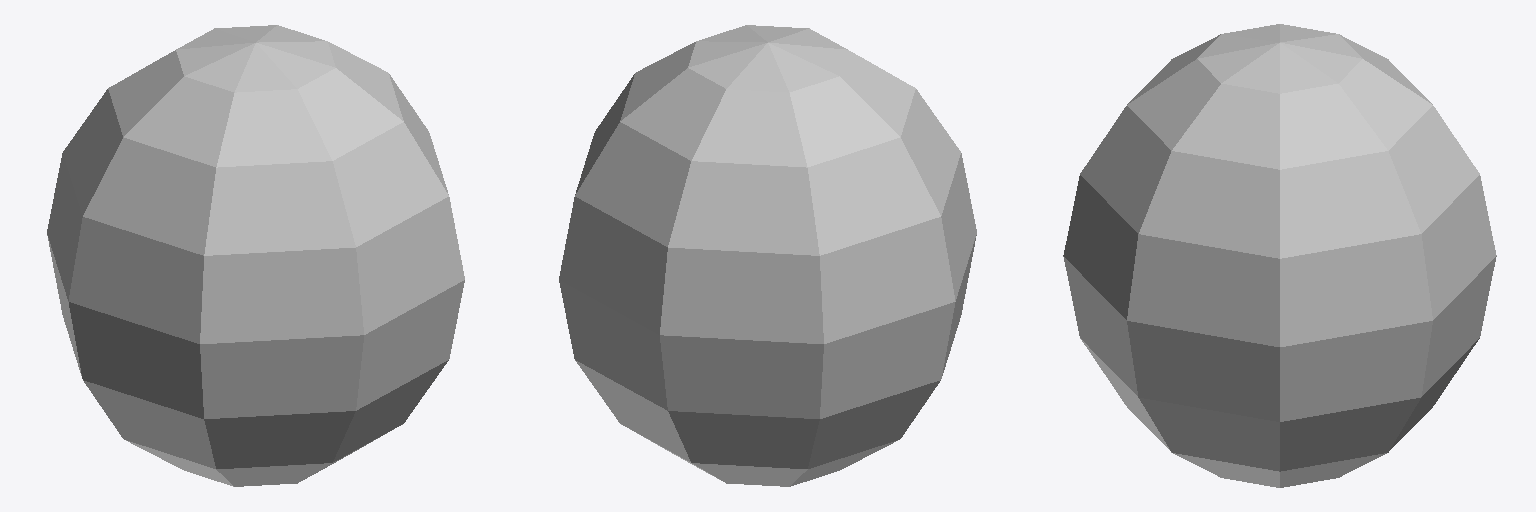
File: Elbow_R.obj
3 renders of one model, left to right at view 1: azimuth 30°, elevation 25°; view 2: azimuth 150°, elevation 25°; view 3: azimuth 270°, elevation 25°, orthographic.
Visible parts, largest first — view 1: Elbow_R Elbow_R; view 2: Elbow_R Elbow_R; view 3: Elbow_R Elbow_R.
Boxes of the visible parts, <box> form: Elbow_R Elbow_R: <box>47,25,464,486</box>; Elbow_R Elbow_R: <box>559,25,976,486</box>; Elbow_R Elbow_R: <box>1063,24,1496,487</box>.
Size of the model in its own units: 0.5992 by 0.6515 by 0.5992.